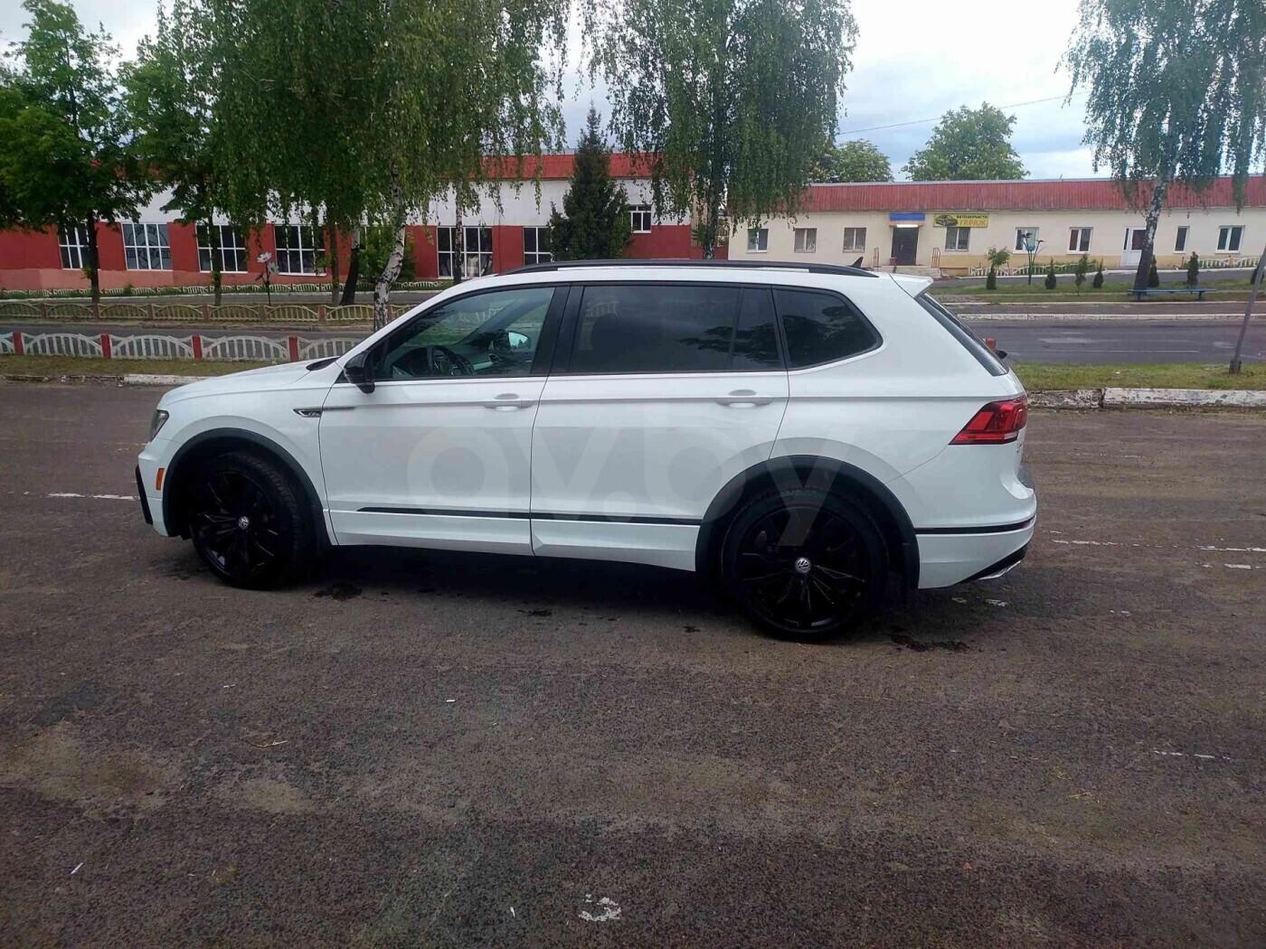Tiguan_2016-2021: (137, 260, 1030, 648)
